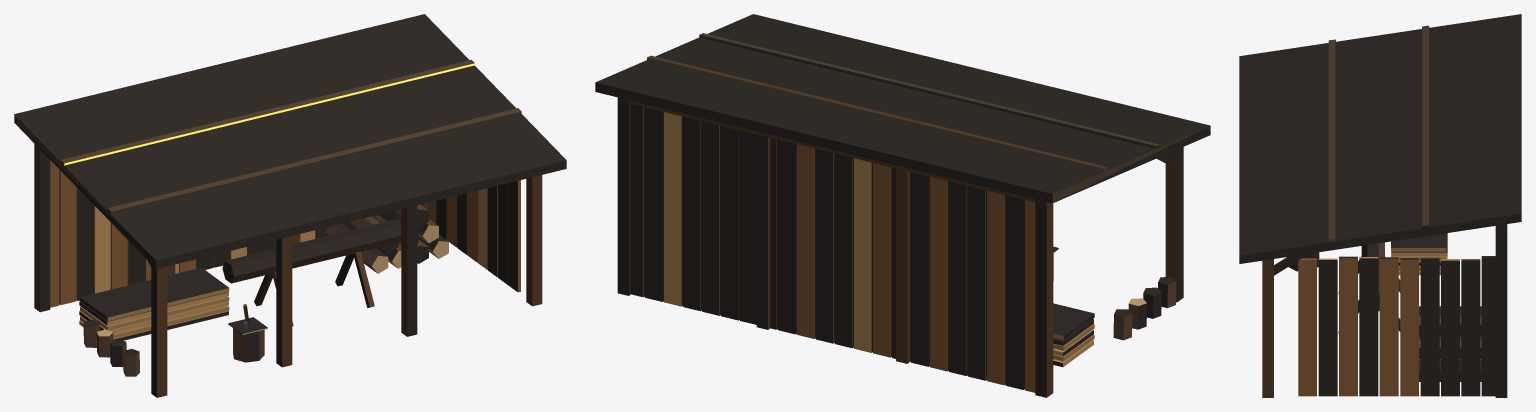
File: Dorf_Zimmerei_Beschaedigt.fbx
The picture shows the model from 3 angles, left to right: view 1: azimuth 30°, elevation 25°; view 2: azimuth 150°, elevation 25°; view 3: azimuth 270°, elevation 25°; orthographic projection. The views are drawn at different scales.
Visible parts, largest first — view 1: Dorf_Zimmerei_Beschaedigt; view 2: Dorf_Zimmerei_Beschaedigt; view 3: Dorf_Zimmerei_Beschaedigt.
Boxes of the visible parts, x1,y1,x2,y2 form: Dorf_Zimmerei_Beschaedigt: (14,14,566,397); Dorf_Zimmerei_Beschaedigt: (595,14,1210,397); Dorf_Zimmerei_Beschaedigt: (1239,14,1521,397).
Bounding box in the file's own units: 8.1 × 3.64 × 4.85.
